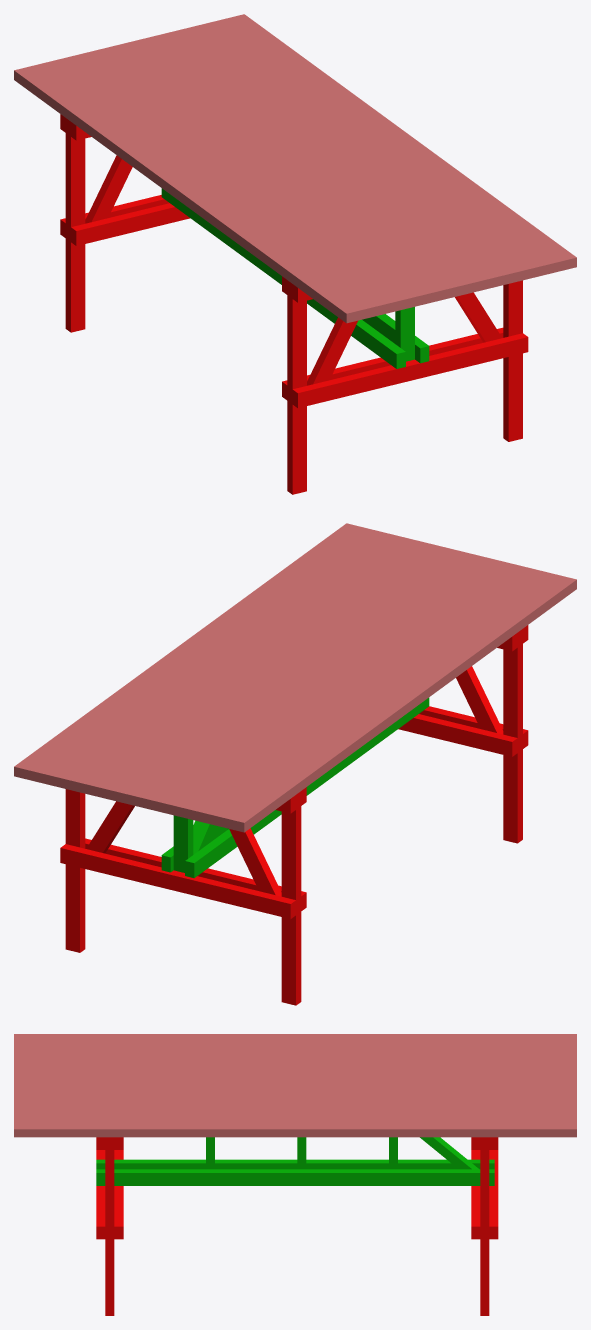
File: result.glb
The picture shows the model from 3 angles, top to bottom: view 1: azimuth 30°, elevation 25°; view 2: azimuth 150°, elevation 25°; view 3: azimuth 270°, elevation 25°; orthographic projection. The views are drawn at different scales.
Visible parts, largest first — view 1: 0dee052c-2e55-43c8-a355-db87efe636c6__Box, c3a690d3-0715-4e19-8599-c66874756bab__undefined, 51b94d4d-252d-478c-8fe8-1d26a26b4e2d__undefined, eeba2825-201e-4b11-bfc0-4e245953da46__undefined, 3ee6b29a-34b1-4180-9669-4aebdd77a497__undefined, 745a2ca8-c22a-451f-8826-b9a3b24d8634__undefined, 717087dc-aef3-4307-b008-d760e0e1f9a7__undefined, 862540a4-8d7e-403a-9c0a-4dae59dc3038__undefined, e6cd53a0-c5ff-4d24-94ff-39b90a961fa5__undefined, 79c0ae65-8256-4cf8-8a5e-5cac0378093f__undefined, 3f170f51-924c-4fd7-931e-5431ef0454c3__undefined, 6c6d51e2-c455-4d65-a151-7c08fda47d5b__undefined (+17 smaller); view 2: 0dee052c-2e55-43c8-a355-db87efe636c6__Box, eeba2825-201e-4b11-bfc0-4e245953da46__undefined, 51b94d4d-252d-478c-8fe8-1d26a26b4e2d__undefined, c3a690d3-0715-4e19-8599-c66874756bab__undefined, 79c0ae65-8256-4cf8-8a5e-5cac0378093f__undefined, 862540a4-8d7e-403a-9c0a-4dae59dc3038__undefined, 6c6d51e2-c455-4d65-a151-7c08fda47d5b__undefined, 745a2ca8-c22a-451f-8826-b9a3b24d8634__undefined, 717087dc-aef3-4307-b008-d760e0e1f9a7__undefined, b8845815-d32f-43d0-9df4-9a6a2eea6111__undefined, 3a31951c-ac6d-46f3-b0c6-6b6056f5becc__undefined, 5fa1aeb6-310a-4bce-a75b-8b4b23e003e1__undefined (+16 smaller); view 3: 862540a4-8d7e-403a-9c0a-4dae59dc3038__undefined, 76b666d4-bca7-4e35-8a8a-f2a769dd3f02__strutH, 5fa1aeb6-310a-4bce-a75b-8b4b23e003e1__undefined, 717087dc-aef3-4307-b008-d760e0e1f9a7__undefined, 3ee6b29a-34b1-4180-9669-4aebdd77a497__undefined, 79c0ae65-8256-4cf8-8a5e-5cac0378093f__undefined, c3a690d3-0715-4e19-8599-c66874756bab__undefined, 745a2ca8-c22a-451f-8826-b9a3b24d8634__undefined, b8845815-d32f-43d0-9df4-9a6a2eea6111__undefined, 3f170f51-924c-4fd7-931e-5431ef0454c3__undefined, 08abcf01-d759-4d94-993f-b132de85f18a__undefined, eeba2825-201e-4b11-bfc0-4e245953da46__undefined (+13 smaller).
Boxes of the visible parts, <box> form: 0dee052c-2e55-43c8-a355-db87efe636c6__Box: <box>14,67,360,323</box>; c3a690d3-0715-4e19-8599-c66874756bab__undefined: <box>129,38,476,294</box>; 51b94d4d-252d-478c-8fe8-1d26a26b4e2d__undefined: <box>57,56,404,312</box>; eeba2825-201e-4b11-bfc0-4e245953da46__undefined: <box>201,21,548,277</box>; 3ee6b29a-34b1-4180-9669-4aebdd77a497__undefined: <box>100,45,447,302</box>; 745a2ca8-c22a-451f-8826-b9a3b24d8634__undefined: <box>144,35,490,291</box>; 717087dc-aef3-4307-b008-d760e0e1f9a7__undefined: <box>86,49,432,305</box>; 862540a4-8d7e-403a-9c0a-4dae59dc3038__undefined: <box>230,14,576,270</box>; e6cd53a0-c5ff-4d24-94ff-39b90a961fa5__undefined: <box>216,17,562,273</box>; 79c0ae65-8256-4cf8-8a5e-5cac0378093f__undefined: <box>115,42,461,298</box>; 3f170f51-924c-4fd7-931e-5431ef0454c3__undefined: <box>173,28,519,284</box>; 6c6d51e2-c455-4d65-a151-7c08fda47d5b__undefined: <box>28,63,375,319</box>; 0dee052c-2e55-43c8-a355-db87efe636c6__Box: <box>230,576,576,832</box>; eeba2825-201e-4b11-bfc0-4e245953da46__undefined: <box>42,530,389,786</box>; 51b94d4d-252d-478c-8fe8-1d26a26b4e2d__undefined: <box>186,565,533,821</box>; c3a690d3-0715-4e19-8599-c66874756bab__undefined: <box>114,548,461,804</box>; 79c0ae65-8256-4cf8-8a5e-5cac0378093f__undefined: <box>129,551,475,807</box>; 862540a4-8d7e-403a-9c0a-4dae59dc3038__undefined: <box>14,523,360,779</box>; 6c6d51e2-c455-4d65-a151-7c08fda47d5b__undefined: <box>215,572,561,828</box>; 745a2ca8-c22a-451f-8826-b9a3b24d8634__undefined: <box>100,544,446,800</box>; 717087dc-aef3-4307-b008-d760e0e1f9a7__undefined: <box>158,558,504,814</box>; b8845815-d32f-43d0-9df4-9a6a2eea6111__undefined: <box>86,541,432,797</box>; 3a31951c-ac6d-46f3-b0c6-6b6056f5becc__undefined: <box>201,569,547,825</box>; 5fa1aeb6-310a-4bce-a75b-8b4b23e003e1__undefined: <box>172,562,518,818</box>; 862540a4-8d7e-403a-9c0a-4dae59dc3038__undefined: <box>14,1123,576,1137</box>; 76b666d4-bca7-4e35-8a8a-f2a769dd3f02__strutH: <box>96,1169,494,1185</box>; 5fa1aeb6-310a-4bce-a75b-8b4b23e003e1__undefined: <box>14,1057,576,1063</box>; 717087dc-aef3-4307-b008-d760e0e1f9a7__undefined: <box>14,1063,576,1069</box>; 3ee6b29a-34b1-4180-9669-4aebdd77a497__undefined: <box>14,1069,576,1075</box>; 79c0ae65-8256-4cf8-8a5e-5cac0378093f__undefined: <box>14,1075,576,1081</box>; c3a690d3-0715-4e19-8599-c66874756bab__undefined: <box>14,1081,576,1087</box>; 745a2ca8-c22a-451f-8826-b9a3b24d8634__undefined: <box>14,1087,576,1093</box>; b8845815-d32f-43d0-9df4-9a6a2eea6111__undefined: <box>14,1093,576,1099</box>; 3f170f51-924c-4fd7-931e-5431ef0454c3__undefined: <box>14,1099,576,1105</box>; 08abcf01-d759-4d94-993f-b132de85f18a__undefined: <box>14,1105,576,1111</box>; eeba2825-201e-4b11-bfc0-4e245953da46__undefined: <box>14,1111,576,1117</box>.
Bounding box in the file's own units: 800 × 732 × 2000.
